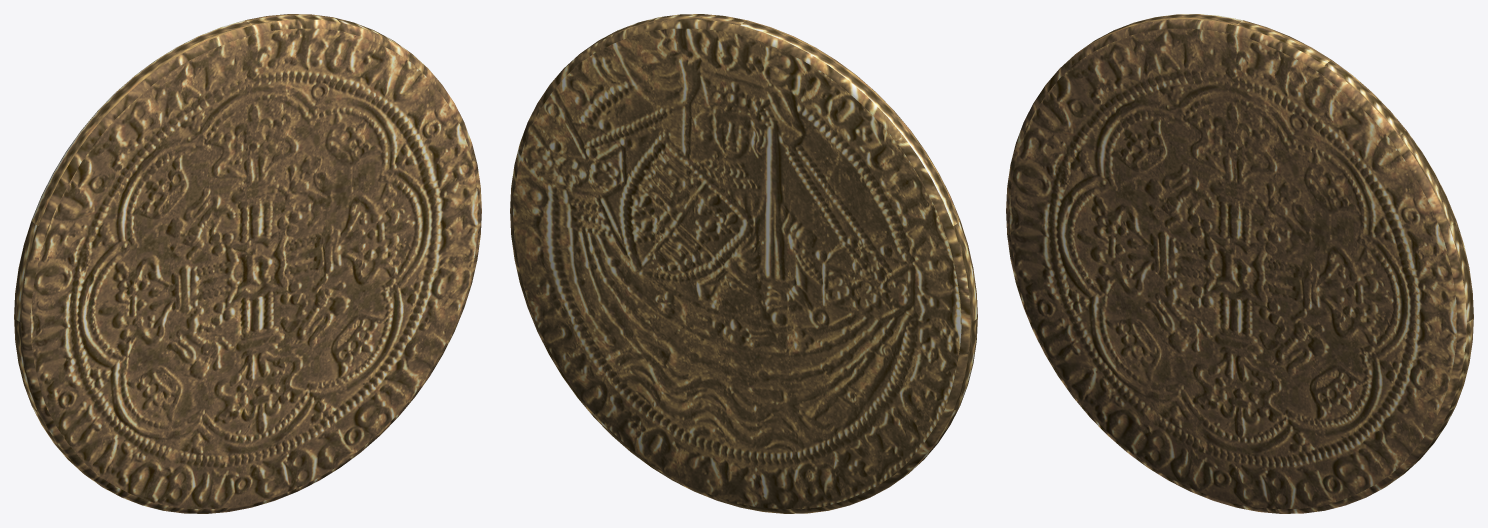
File: coin.glb
3 renders of one model, left to right at view 1: azimuth 30°, elevation 25°; view 2: azimuth 150°, elevation 25°; view 3: azimuth 330°, elevation 25°, orthographic.
Parts seen in each view (by area): view 1: Coin_1; view 2: Coin_1; view 3: Coin_1.
Boxes of the visible parts, <box> form: Coin_1: <box>14,14,481,513</box>; Coin_1: <box>510,14,977,513</box>; Coin_1: <box>1006,14,1473,513</box>.
Size of the model in its own units: 2.01 by 2.01 by 0.1.
1 material, 1 textured.
